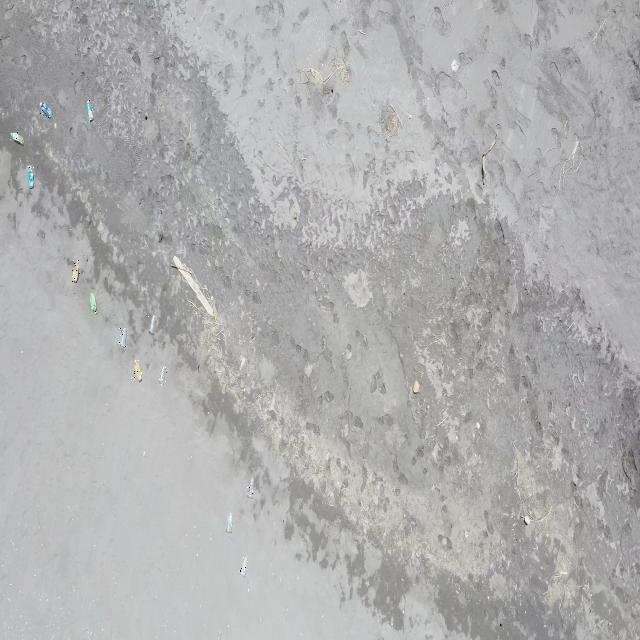plastic-bottle: (89, 293, 98, 315), (40, 102, 52, 118), (72, 259, 80, 282), (134, 359, 142, 382), (10, 132, 24, 145), (28, 165, 34, 189), (87, 100, 93, 120)
takeaway-cup: (239, 556, 248, 576), (248, 476, 255, 499), (119, 328, 127, 348), (148, 315, 156, 335), (160, 367, 168, 385), (226, 514, 232, 536), (216, 632, 223, 640)
